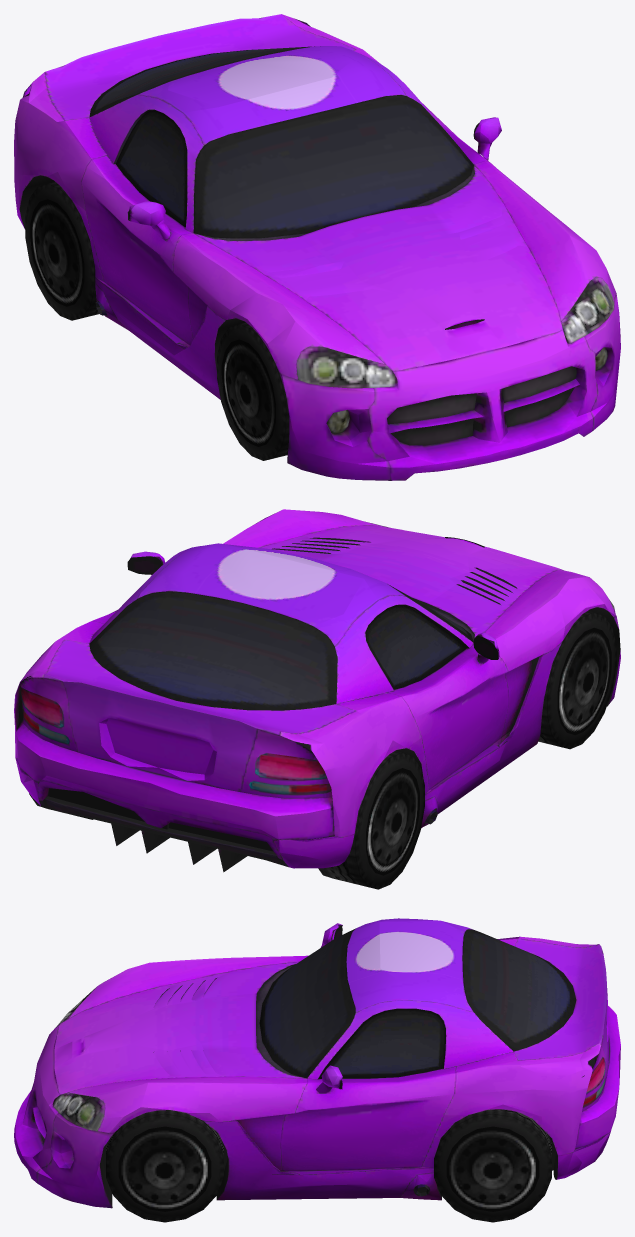
File: Car 4.glb
The picture shows the model from 3 angles, top to bottom: view 1: azimuth 30°, elevation 25°; view 2: azimuth 150°, elevation 25°; view 3: azimuth 270°, elevation 25°; orthographic projection. The views are drawn at different scales.
Parts seen in each view (by area): view 1: carBody_low_006, tireFrontR_low_010, tireBackR_low_010; view 2: carBody_low_006, tireBackR_low_010, tireFrontR_low_010; view 3: carBody_low_006, tireBackL_low_010, tireFrontL_low_010.
Boxes of the visible parts, bbox=[...] form: carBody_low_006: bbox=[14, 14, 620, 480]; tireFrontR_low_010: bbox=[217, 322, 289, 460]; tireBackR_low_010: bbox=[25, 182, 99, 320]; carBody_low_006: bbox=[14, 509, 620, 872]; tireBackR_low_010: bbox=[318, 751, 424, 889]; tireFrontR_low_010: bbox=[538, 611, 616, 749]; carBody_low_006: bbox=[14, 918, 620, 1208]; tireBackL_low_010: bbox=[434, 1109, 551, 1222]; tireFrontL_low_010: bbox=[106, 1110, 223, 1222].
Bounding box in the file's own units: 0.6945 × 0.4252 × 1.15.
Materials: 2 (2 with a texture image).
